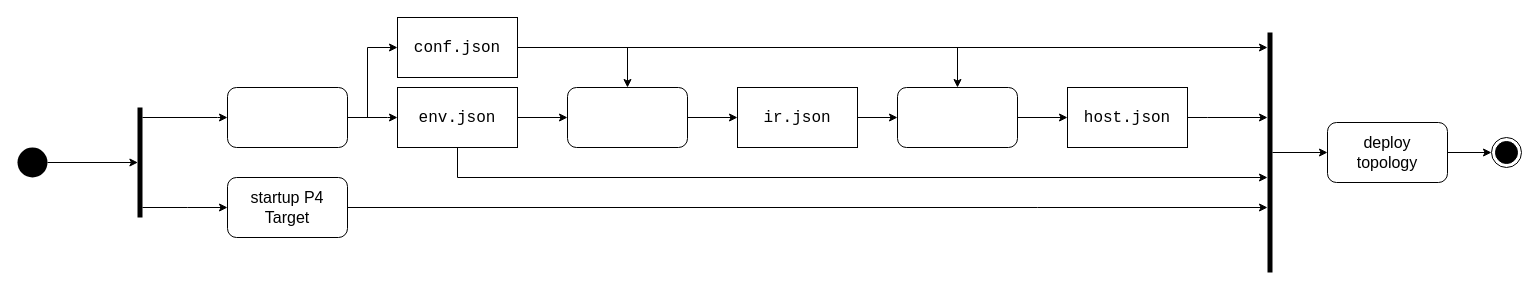
This 1539x290 diagram has some shape labels left out. Each missing label, with the centre of its shape:
"create environment configuration" belongs at pixel 287 117.
"generate host configuration" belongs at pixel 957 117.
"generate topology" belongs at pixel 627 117.
